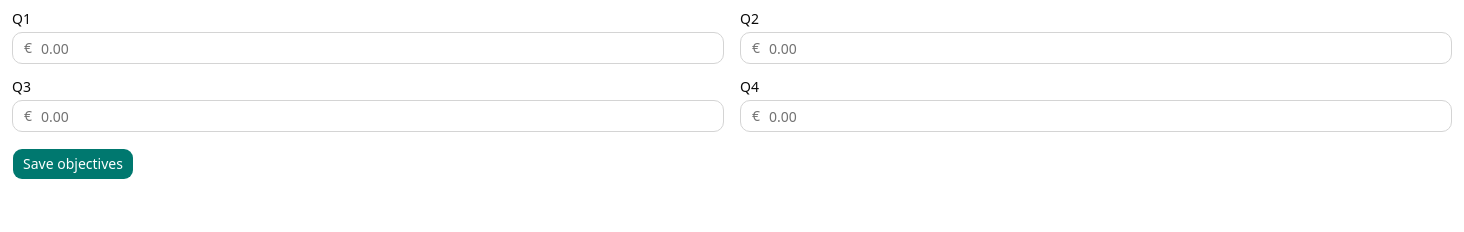
ObjectivesForm › shows the saved confirmation after a successful save
Click the button "Save objectives": [73, 164] box [12, 148, 134, 180]
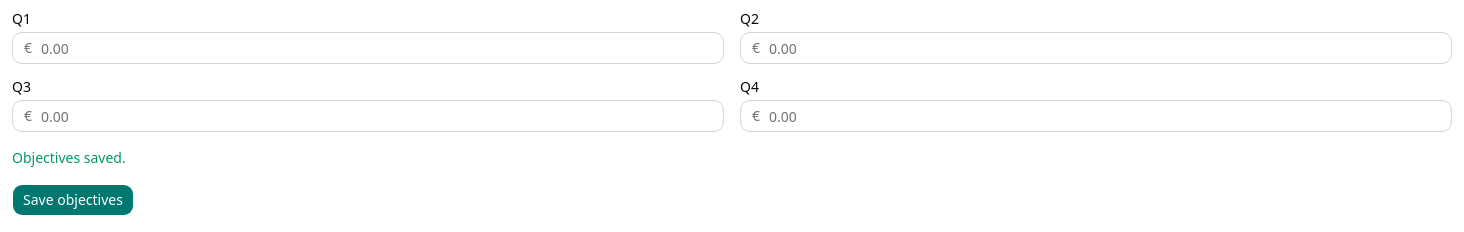
expect the text "Objectives saved." is shown: met, box [12, 148, 126, 167]
